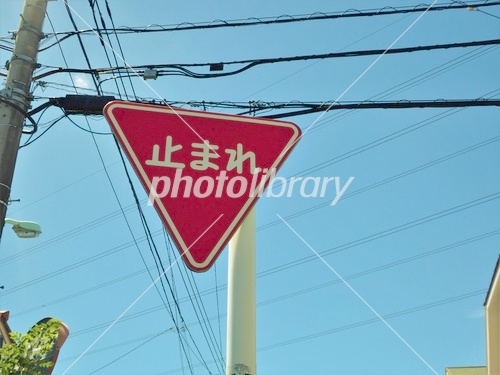Regulatory_sign_triangle: (95, 95, 311, 295)
